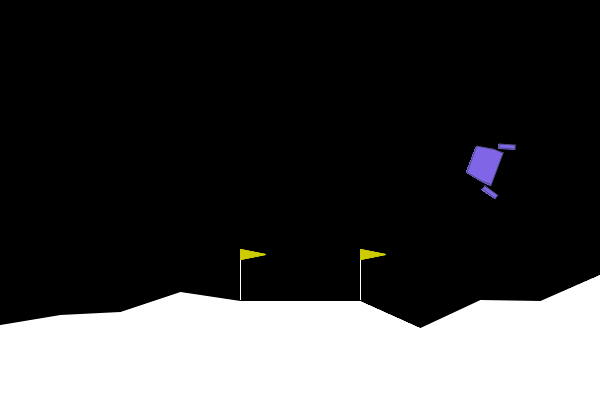lander: (459, 131, 517, 201)
